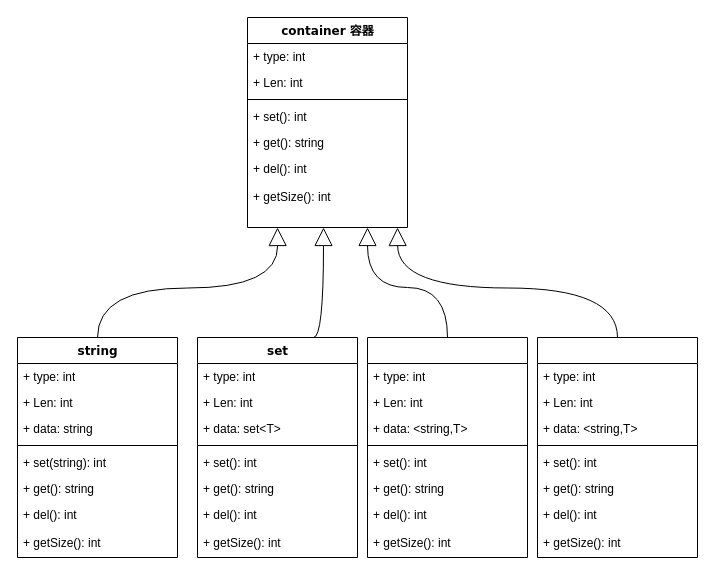
This 715x578 diagram has some shape labels left out. The shapes that lost their labels are listed below. From the top down, each one's box as (x1, y1, x2, y2) in pixels, then its label:
(366, 336, 528, 558): map
(536, 336, 698, 558): skipList
